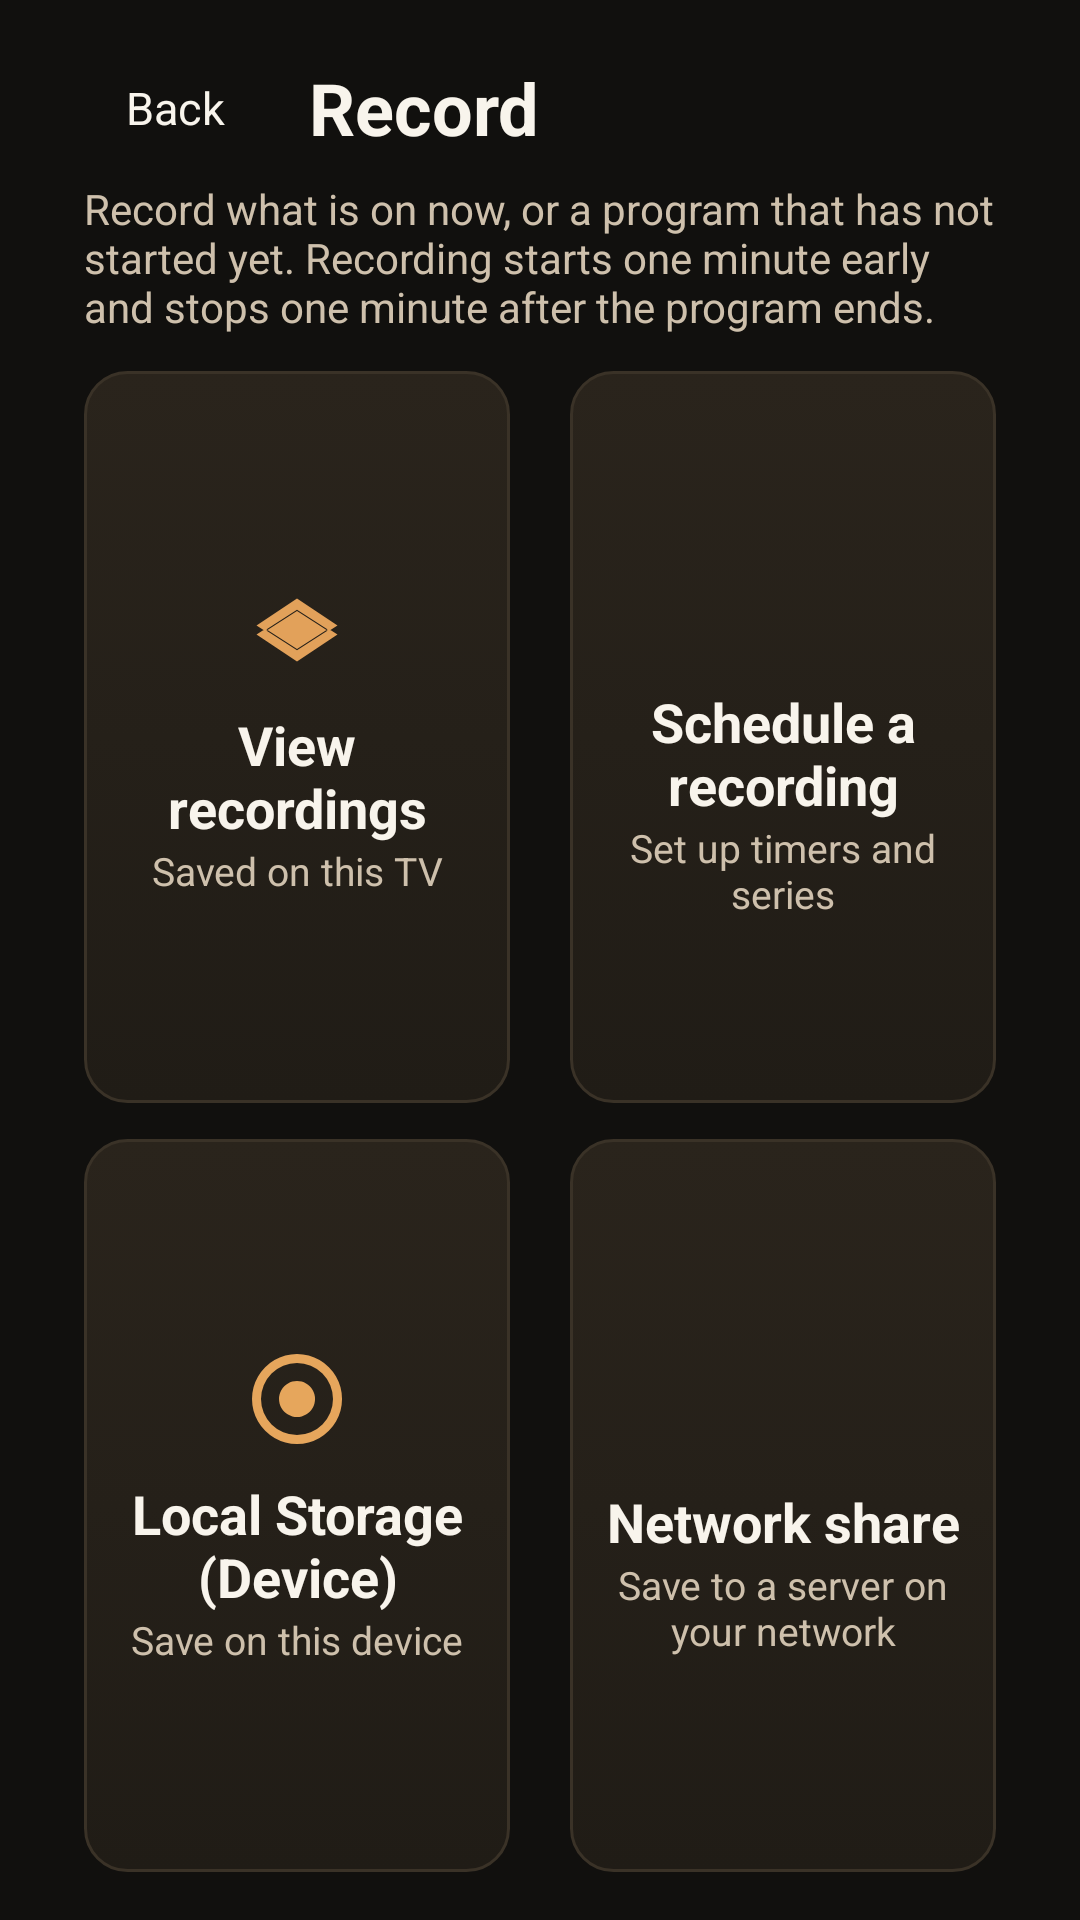

Named icons in this screenshot (1080x1920) and their bounding boxes, (x1, y1, x2, y2):
card layers: (256, 598, 338, 662)
record: (252, 1354, 342, 1444)
